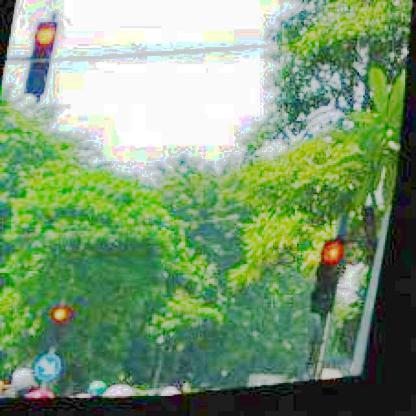Traffic Light -Red-: (20, 18, 61, 99), (314, 244, 353, 324)
